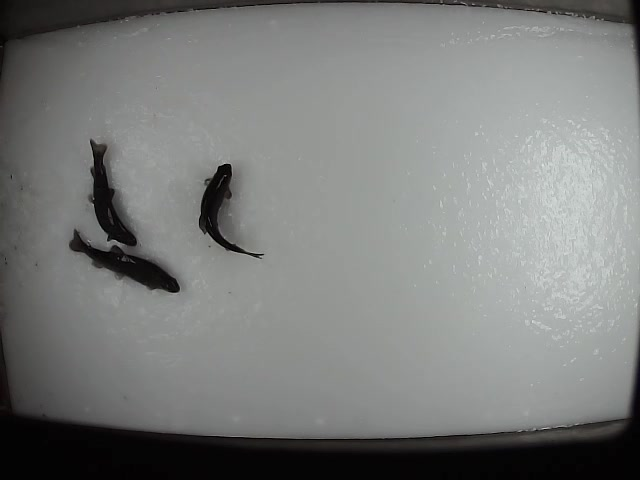Fish: (69, 228, 181, 293), (199, 164, 264, 259), (89, 138, 137, 247)
